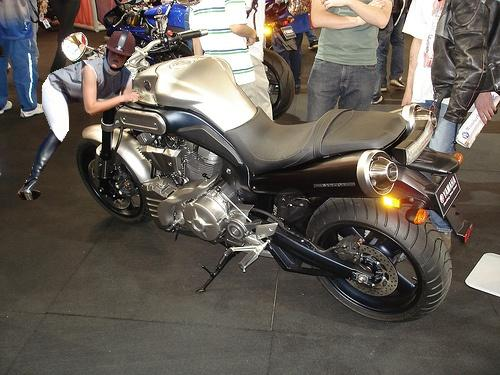tampered: (18, 31, 139, 200)
